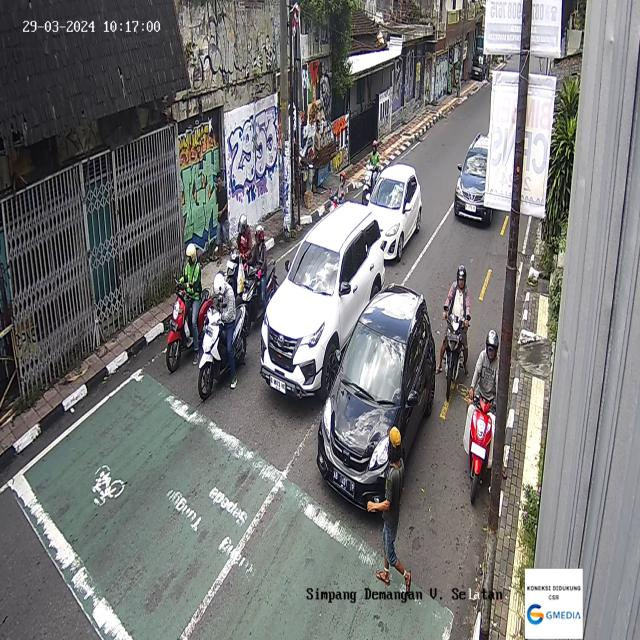car: (316, 282, 436, 513), (259, 200, 385, 402), (362, 162, 422, 262), (454, 132, 493, 227)
motorcycle: (462, 329, 502, 505), (197, 273, 248, 400), (165, 242, 211, 373), (442, 265, 472, 402), (242, 224, 278, 334), (224, 214, 252, 300), (361, 140, 382, 205), (328, 170, 348, 212)
